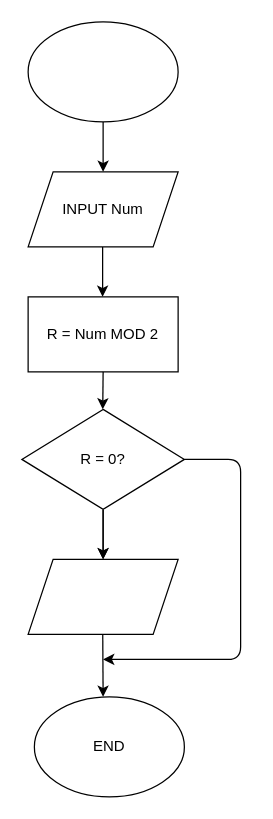
Image size: 273x819. Some labels were removed from this diagram. The shapes that lost their labels are listed below. From the top down, each one's box as (x1, y1, x2, y2) in pixels, then its label:
(27, 21, 178, 122): START
(27, 558, 178, 634): DISPLAY "Num is even"
